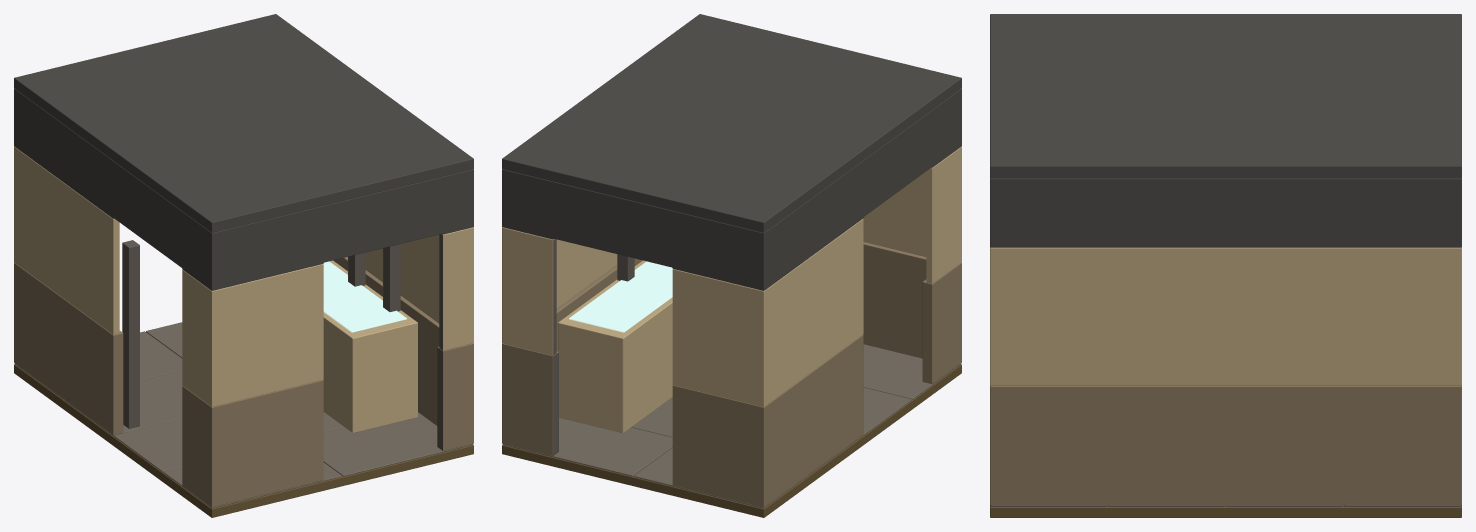
The model's file is gen-charts.glb.
3 renders of one model, left to right at view 1: azimuth 30°, elevation 25°; view 2: azimuth 150°, elevation 25°; view 3: azimuth 270°, elevation 25°, orthographic. The views are drawn at different scales.
Visible parts, largest first — view 1: THE CHARTS; view 2: THE CHARTS; view 3: THE CHARTS.
Part boxes in pixels (<box>): THE CHARTS: <box>14,14,473,517</box>; THE CHARTS: <box>502,14,961,517</box>; THE CHARTS: <box>990,14,1461,517</box>.
Size of the model in its own units: 2.6 by 2.8 by 3.4.
